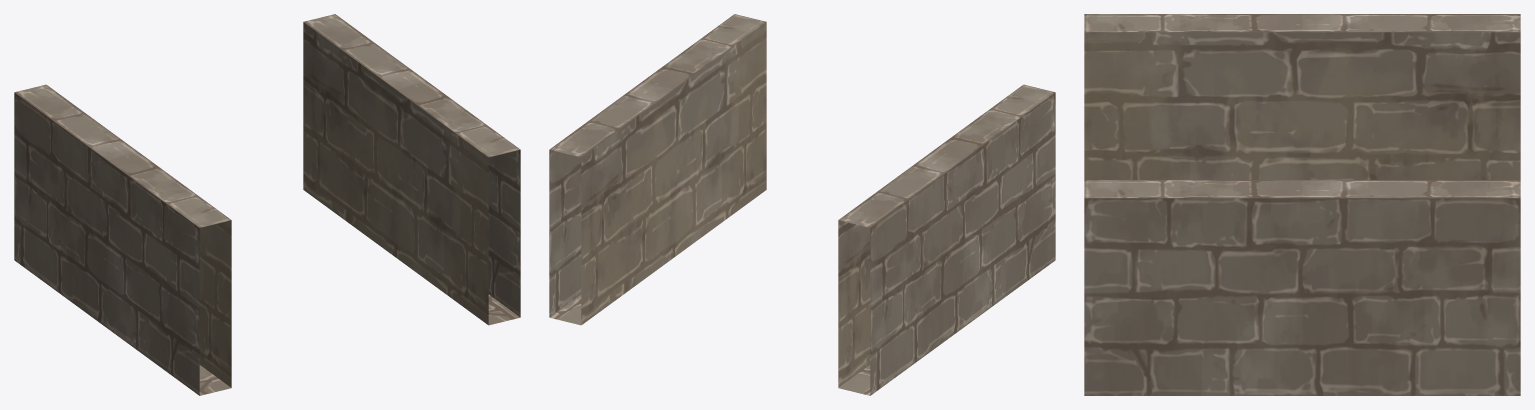
Rendered from Stairs_Exterior_Sides.glb.
The picture shows the model from 3 angles, left to right: view 1: azimuth 30°, elevation 25°; view 2: azimuth 150°, elevation 25°; view 3: azimuth 270°, elevation 25°; orthographic projection. The views are drawn at different scales.
Visible parts, largest first — view 1: Stairs_Exterior_Sides; view 2: Stairs_Exterior_Sides; view 3: Stairs_Exterior_Sides.
Boxes of the visible parts, left/top/right/bottom form: Stairs_Exterior_Sides: left=14, top=14, right=520, bottom=395; Stairs_Exterior_Sides: left=549, top=14, right=1055, bottom=395; Stairs_Exterior_Sides: left=1084, top=14, right=1520, bottom=395.
Bounding box in the file's own units: 2 × 0.9998 × 2.
Materials: 1 (1 with a texture image).
